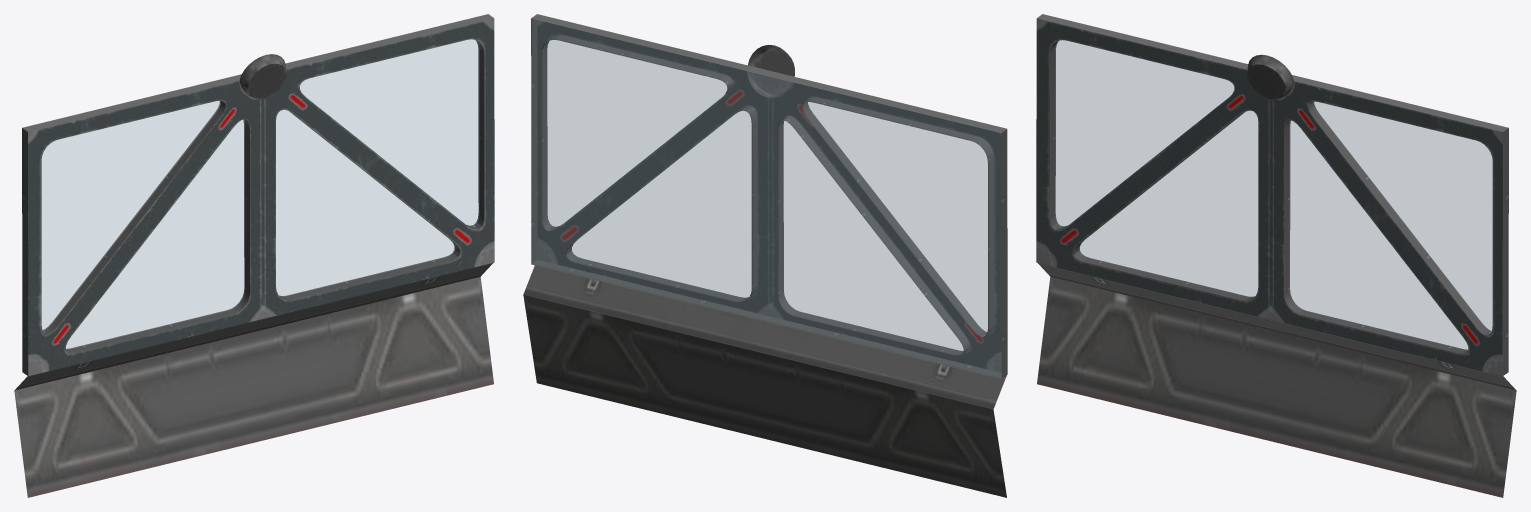
File: sf_wall_window.glb
3 views of the same model, side by side, from view 1: azimuth 30°, elevation 25°; view 2: azimuth 150°, elevation 25°; view 3: azimuth 330°, elevation 25° (orthographic).
Parts seen in each view (by area): view 1: WallWindow_Straight; view 2: WallWindow_Straight; view 3: WallWindow_Straight.
Boxes of the visible parts, bbox=[...] form: WallWindow_Straight: bbox=[14, 14, 494, 497]; WallWindow_Straight: bbox=[523, 14, 1007, 497]; WallWindow_Straight: bbox=[1036, 14, 1516, 497].
Size of the model in its own units: 4 by 3.19 by 0.3201.
Materials: 4 (3 with a texture image).
